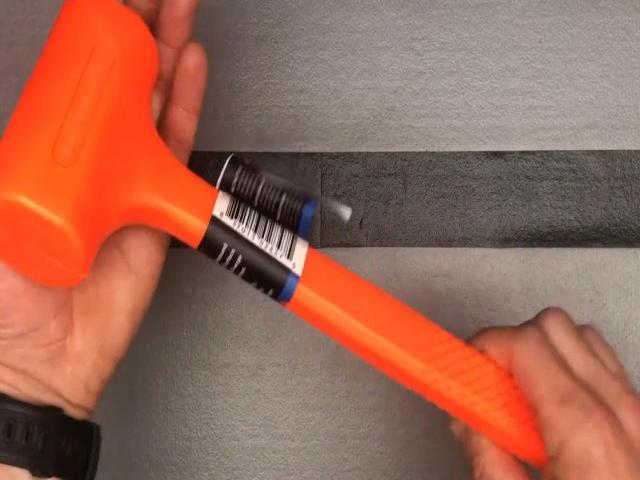hammer: (0, 1, 640, 480)
